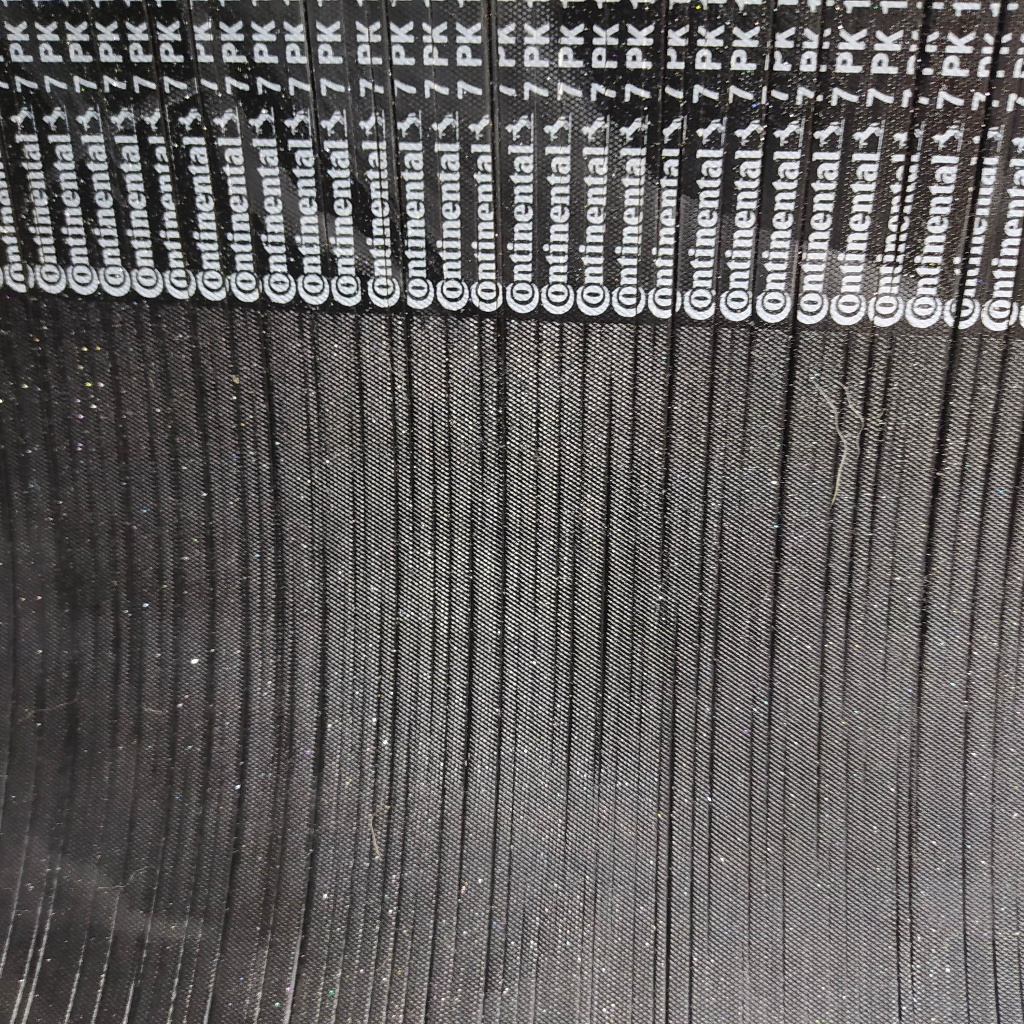friso grande: (654, 316, 688, 585), (587, 514, 617, 783), (911, 491, 945, 700), (992, 491, 1024, 688), (384, 94, 412, 314), (446, 748, 472, 983), (977, 0, 1013, 167), (768, 388, 800, 573), (289, 877, 329, 1024), (956, 762, 977, 1023), (884, 154, 922, 298), (309, 539, 335, 744), (662, 140, 692, 315), (840, 723, 860, 985), (243, 882, 280, 1021), (549, 322, 567, 602), (833, 548, 863, 714), (954, 156, 991, 290), (398, 307, 419, 538), (762, 572, 784, 788), (928, 374, 961, 509), (740, 236, 765, 413), (301, 738, 332, 879), (272, 626, 300, 782), (811, 688, 832, 892), (570, 318, 592, 509), (955, 614, 980, 781), (382, 882, 412, 1019), (624, 323, 647, 490), (460, 555, 479, 755), (673, 0, 697, 153), (379, 313, 403, 466), (182, 300, 212, 421), (940, 280, 972, 393), (779, 254, 806, 387), (817, 498, 835, 697), (668, 597, 685, 802), (261, 783, 293, 891), (746, 690, 759, 947), (165, 570, 189, 709), (101, 294, 128, 417), (599, 360, 620, 518), (660, 800, 675, 1020), (120, 923, 153, 1022), (120, 737, 146, 862), (483, 818, 500, 1009), (259, 347, 281, 492), (988, 805, 1002, 1024), (704, 615, 723, 776), (877, 558, 900, 689), (847, 426, 870, 557), (430, 766, 451, 909), (987, 327, 1015, 432), (60, 666, 87, 774), (792, 154, 817, 270), (207, 906, 231, 1024), (702, 768, 717, 956), (106, 858, 136, 952), (566, 552, 580, 750), (161, 709, 183, 835), (388, 553, 401, 766), (238, 529, 258, 667), (438, 620, 456, 773), (647, 840, 662, 1023), (235, 657, 254, 801), (887, 452, 911, 565), (19, 912, 43, 1024), (701, 290, 721, 424), (698, 419, 716, 567), (493, 552, 512, 689), (859, 491, 881, 609), (898, 80, 926, 172), (418, 905, 440, 1022), (975, 429, 1006, 512), (857, 333, 880, 444), (229, 442, 257, 533), (192, 765, 216, 871), (196, 422, 217, 542), (171, 440, 189, 579), (300, 0, 322, 112), (143, 831, 169, 923), (489, 687, 507, 818), (86, 947, 117, 1023), (712, 489, 729, 625), (397, 775, 418, 885), (686, 658, 705, 778), (200, 539, 219, 657), (202, 653, 221, 771), (966, 504, 986, 616), (684, 874, 699, 1022), (80, 862, 105, 950), (870, 393, 892, 492), (497, 398, 510, 560), (495, 278, 511, 407), (113, 414, 137, 500), (380, 0, 400, 102), (60, 947, 87, 1022), (489, 113, 501, 280), (270, 488, 284, 625), (118, 494, 140, 580), (361, 925, 380, 1023), (446, 455, 457, 624), (911, 0, 932, 88), (755, 124, 770, 245), (305, 118, 332, 184), (829, 393, 845, 504), (484, 2, 501, 105), (894, 830, 903, 1023), (388, 464, 406, 559), (255, 250, 271, 356), (812, 0, 833, 80), (1004, 232, 1023, 320), (683, 772, 698, 883), (1013, 858, 1024, 1009), (29, 738, 49, 821), (39, 845, 63, 913), (805, 74, 824, 159), (879, 319, 900, 395), (444, 314, 455, 459), (182, 861, 199, 952), (55, 778, 77, 847), (691, 566, 706, 666), (227, 369, 247, 444), (223, 304, 246, 369), (4, 875, 21, 962), (762, 49, 780, 127), (378, 766, 387, 922), (160, 315, 171, 442), (462, 477, 478, 559), (16, 815, 37, 876), (477, 413, 488, 529), (163, 961, 183, 1024), (837, 330, 854, 404), (475, 320, 488, 415), (764, 0, 786, 51), (992, 668, 999, 827), (229, 795, 239, 905), (893, 749, 906, 827), (353, 305, 362, 414)
friso pequeno: (499, 734, 527, 997), (305, 322, 326, 535), (778, 679, 791, 1021), (543, 599, 566, 776), (530, 315, 544, 601), (426, 401, 441, 637), (398, 904, 422, 1023), (718, 353, 737, 492), (557, 741, 576, 876), (423, 2, 444, 121), (707, 203, 733, 295), (358, 416, 372, 582), (429, 111, 447, 226), (422, 633, 440, 744), (735, 407, 752, 515), (760, 790, 773, 922), (513, 508, 526, 631), (438, 224, 451, 324), (735, 941, 749, 1024), (513, 626, 522, 744), (399, 718, 415, 780), (726, 314, 741, 353)
